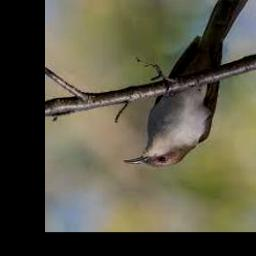Cuckoo: (124, 0, 251, 167)
